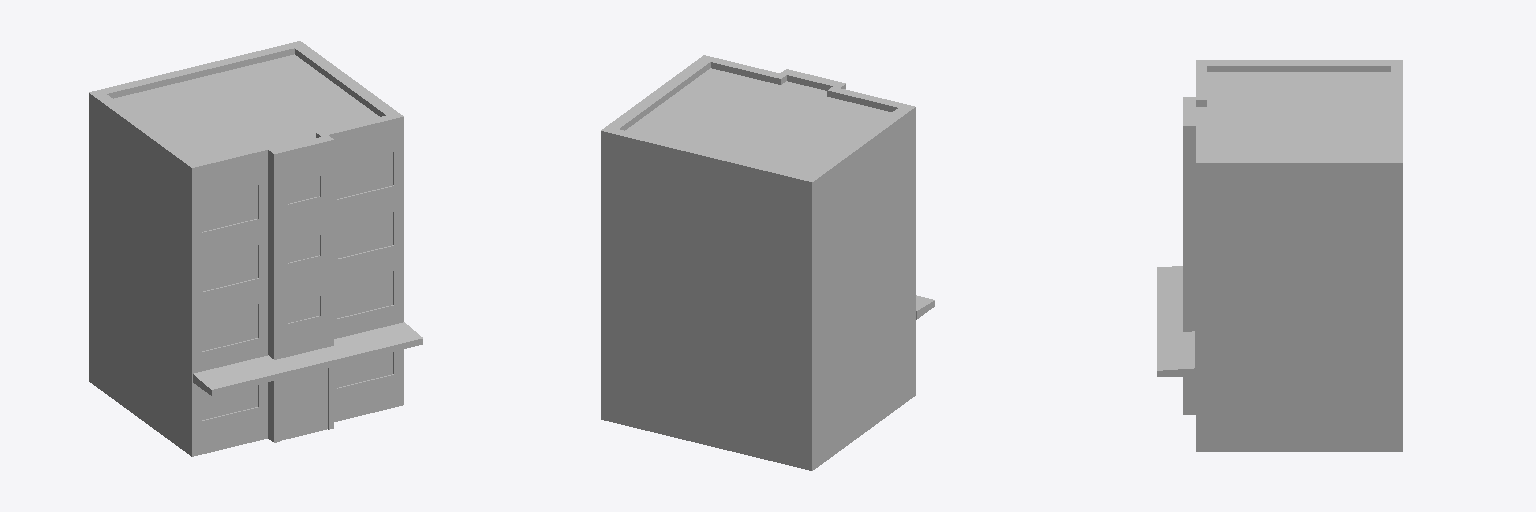
Rendered from Building Sky_small_color01.obj.
3 views of the same model, side by side, from view 1: azimuth 30°, elevation 25°; view 2: azimuth 150°, elevation 25°; view 3: azimuth 270°, elevation 25° (orthographic).
Visible parts, largest first — view 1: Building_Sky_small_color01; view 2: Building_Sky_small_color01; view 3: Building_Sky_small_color01.
Part boxes in pixels (x1,y1,x2,y2): Building_Sky_small_color01: (89,41,422,456); Building_Sky_small_color01: (601,55,934,470); Building_Sky_small_color01: (1157,60,1402,451).
Size of the model in its own units: 512 by 666 by 514.